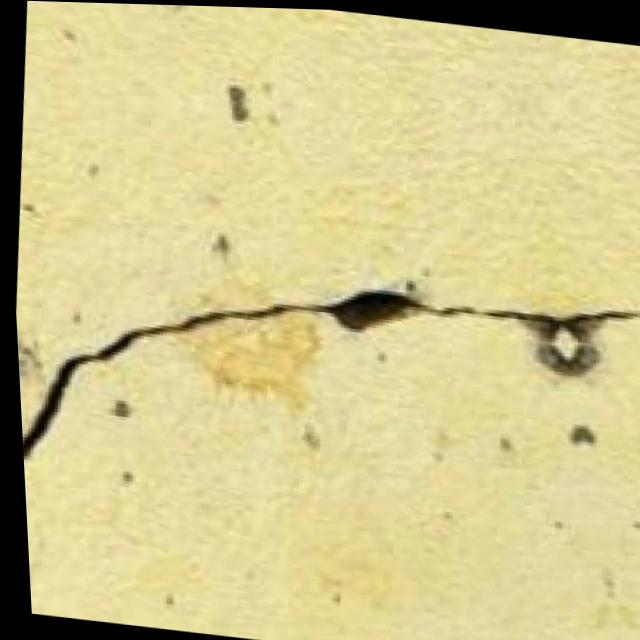Crack: (8, 186, 640, 568)
